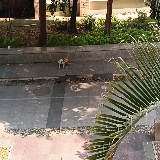fire: (63, 57, 68, 62)
